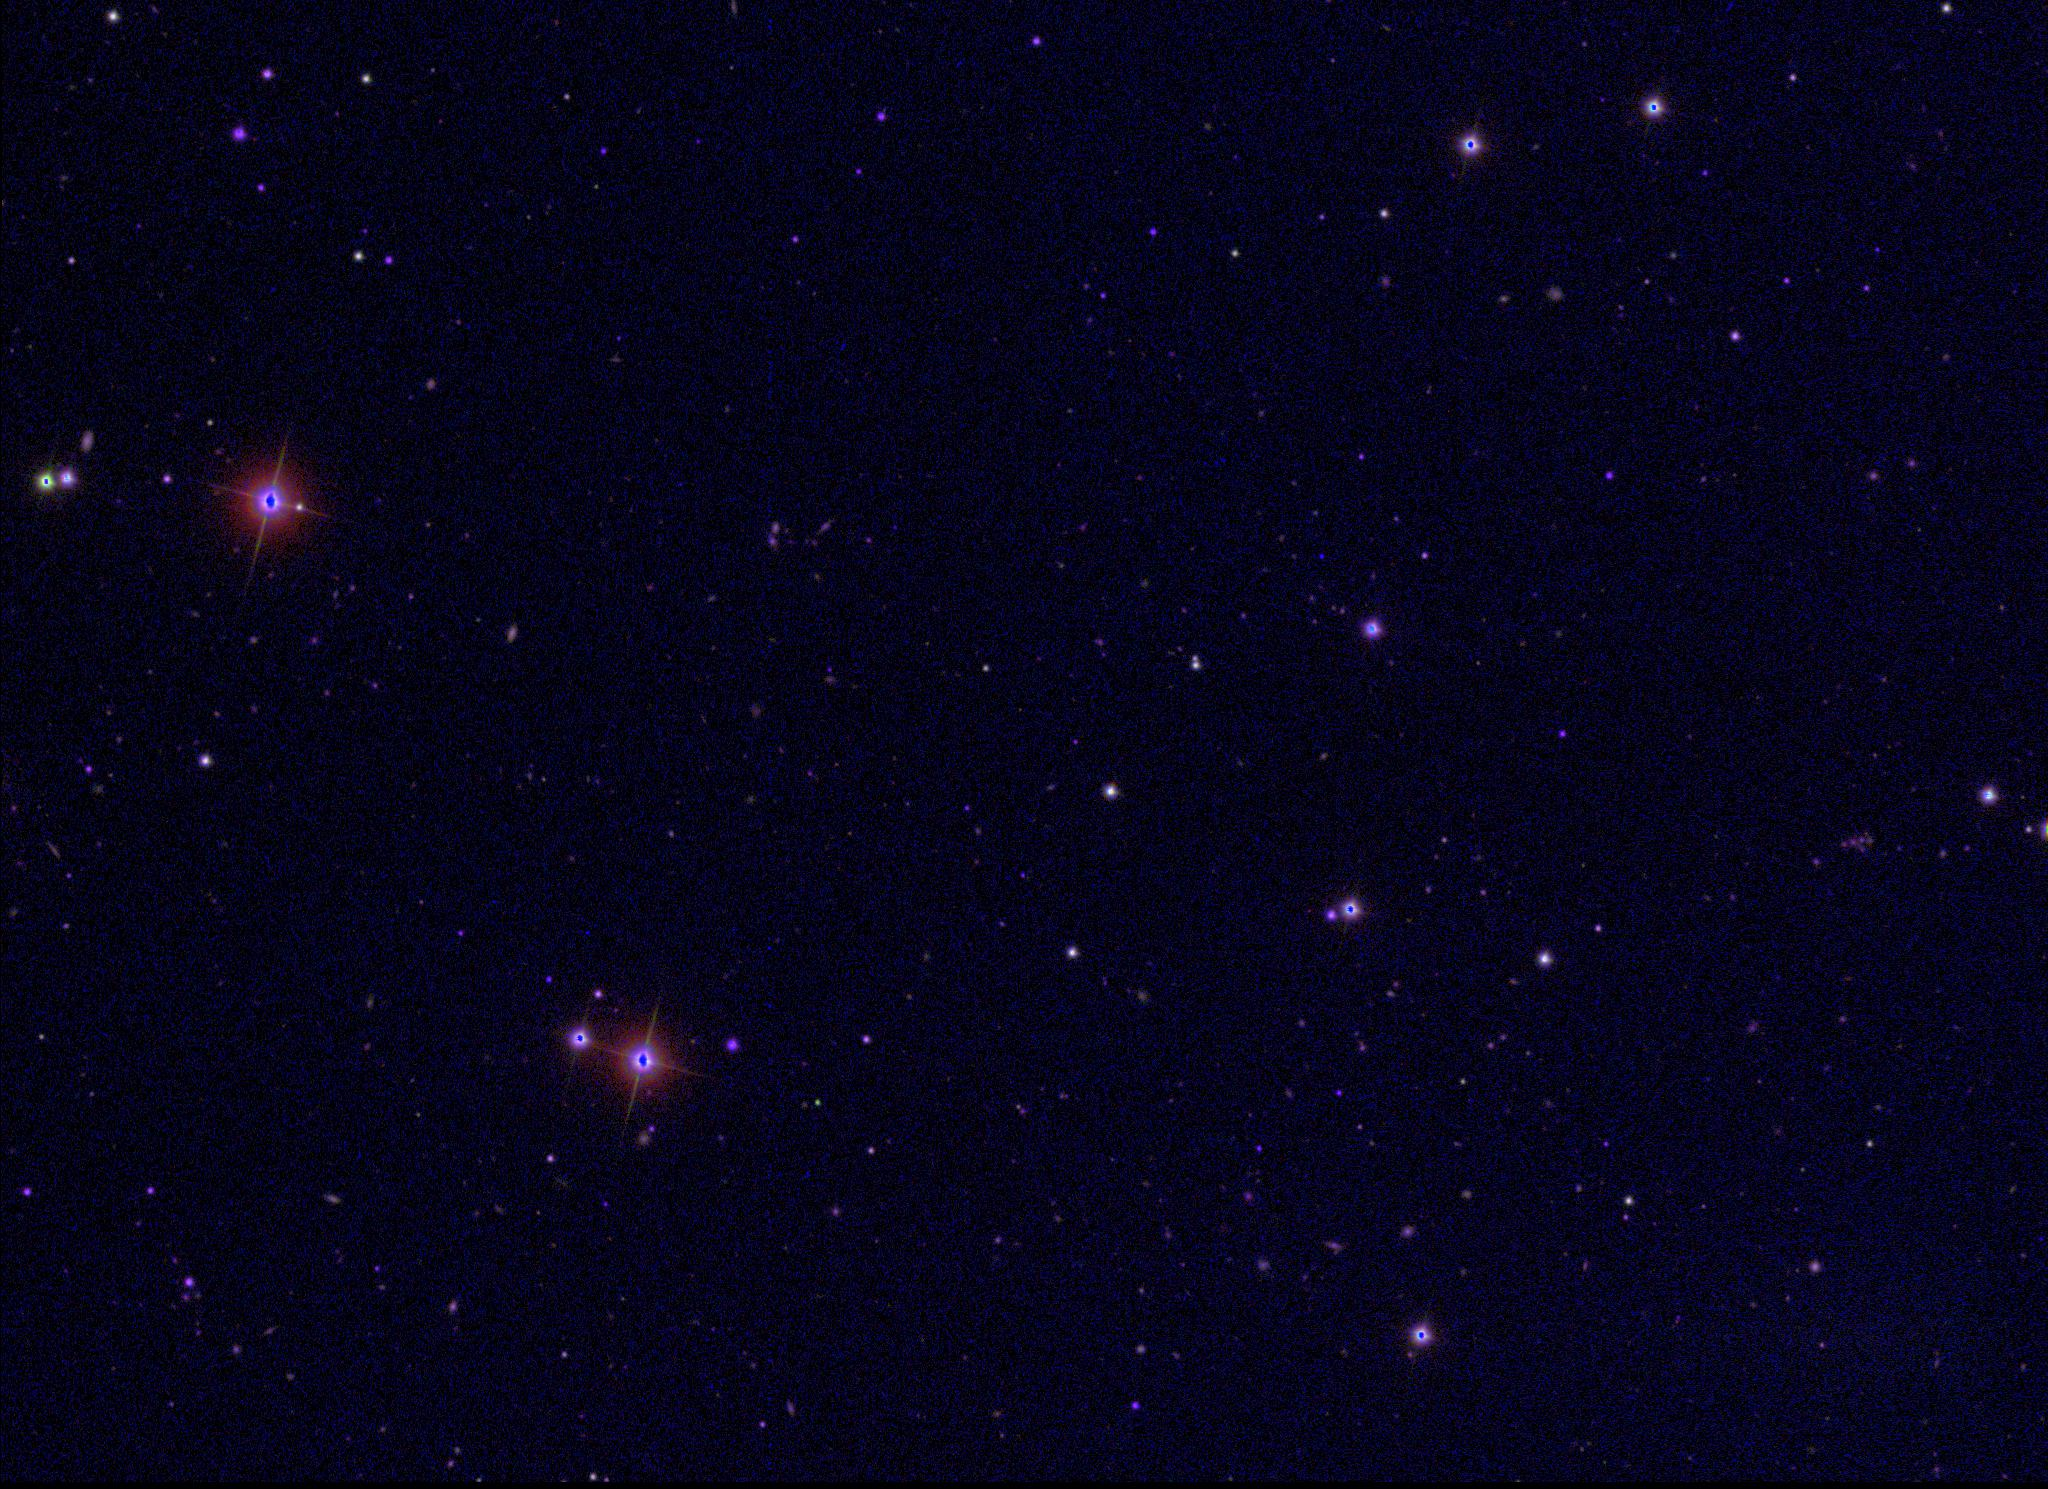L: (1315, 550, 1329, 565)
